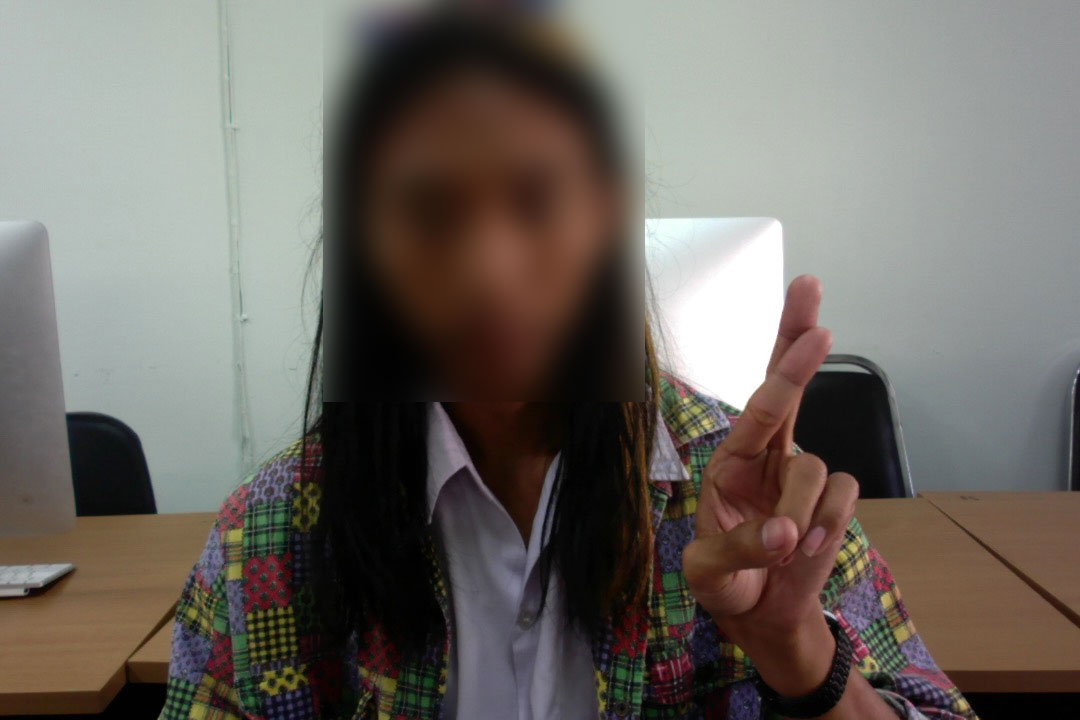rao: (657, 269, 868, 633)
